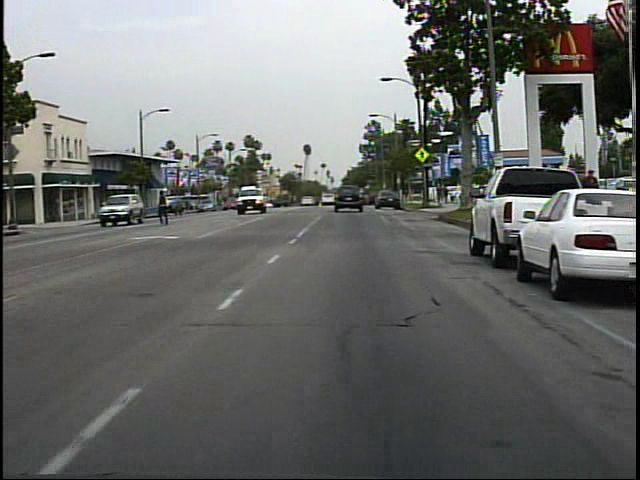person: (574, 164, 601, 227), (153, 186, 179, 228)
